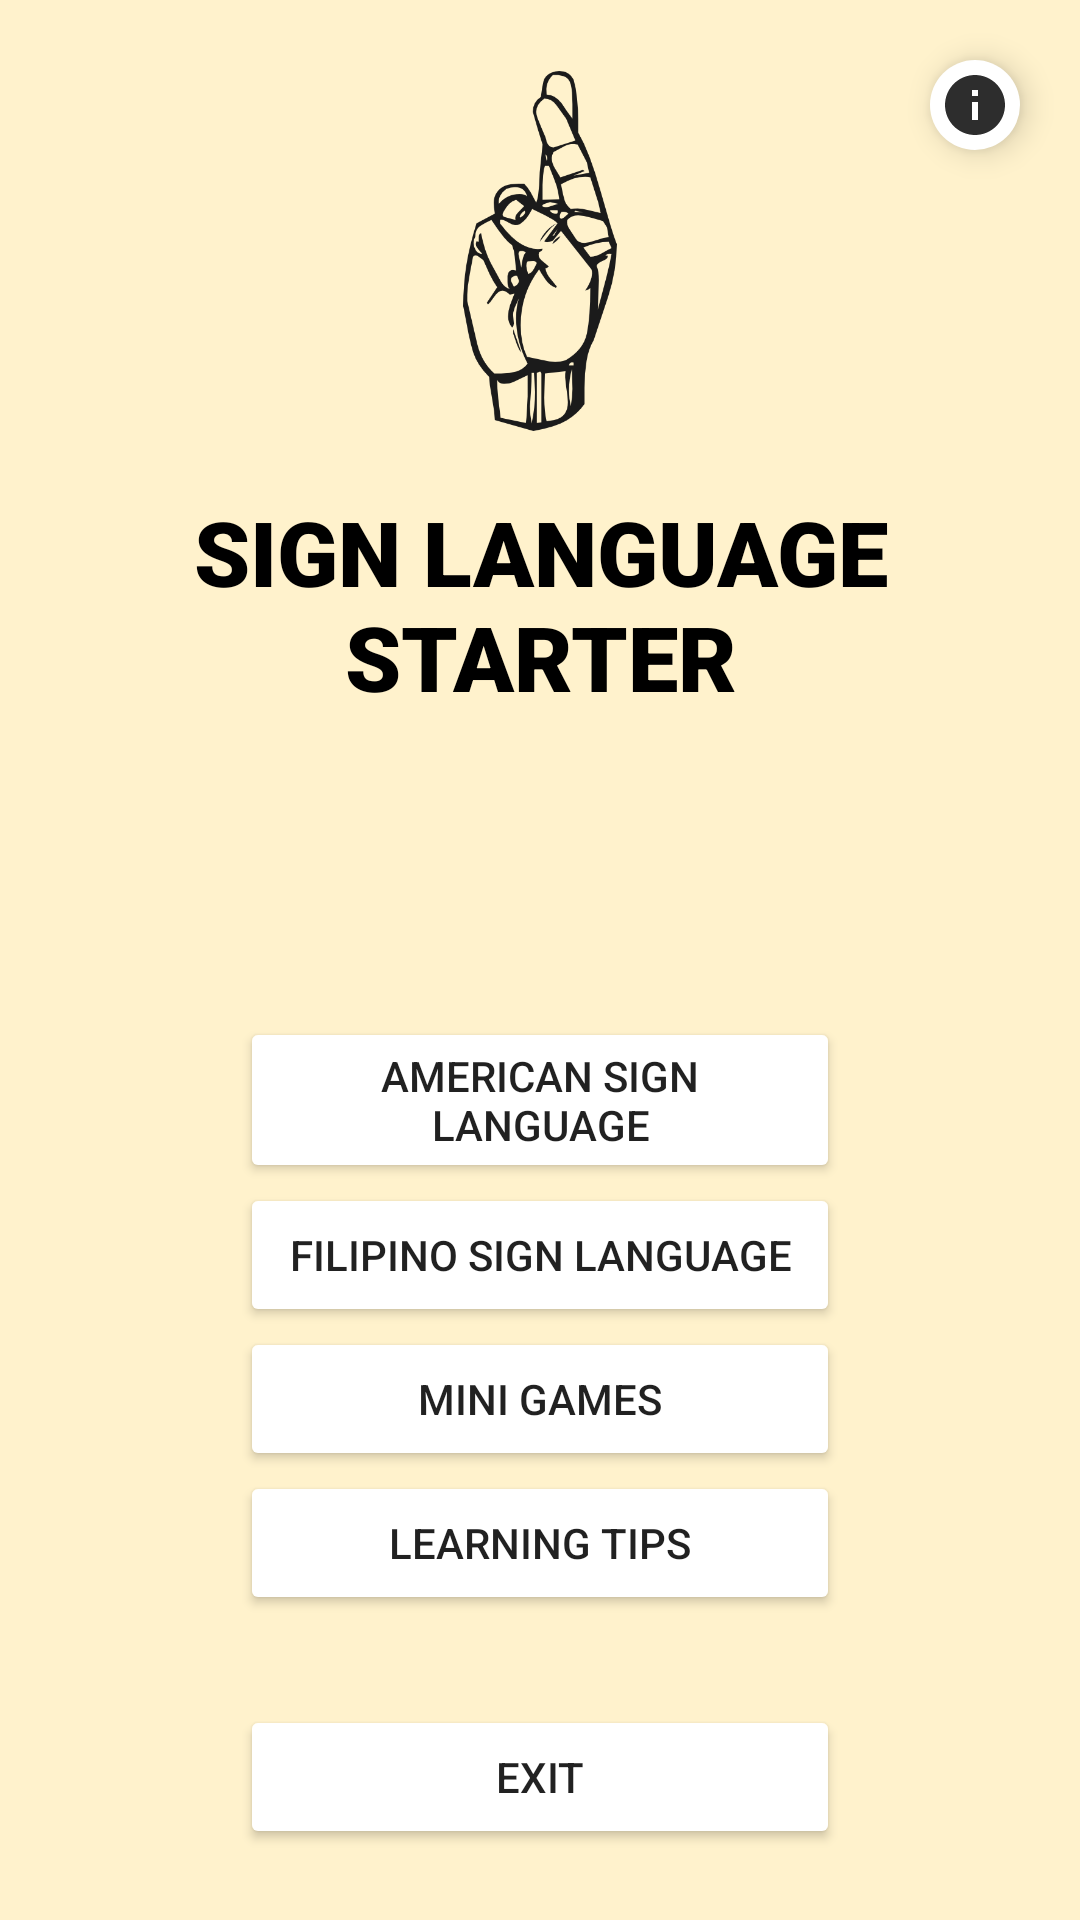

Where to tap for icons on this 1080w x 1920h app screen, as (x,y):
info: (975,105)
